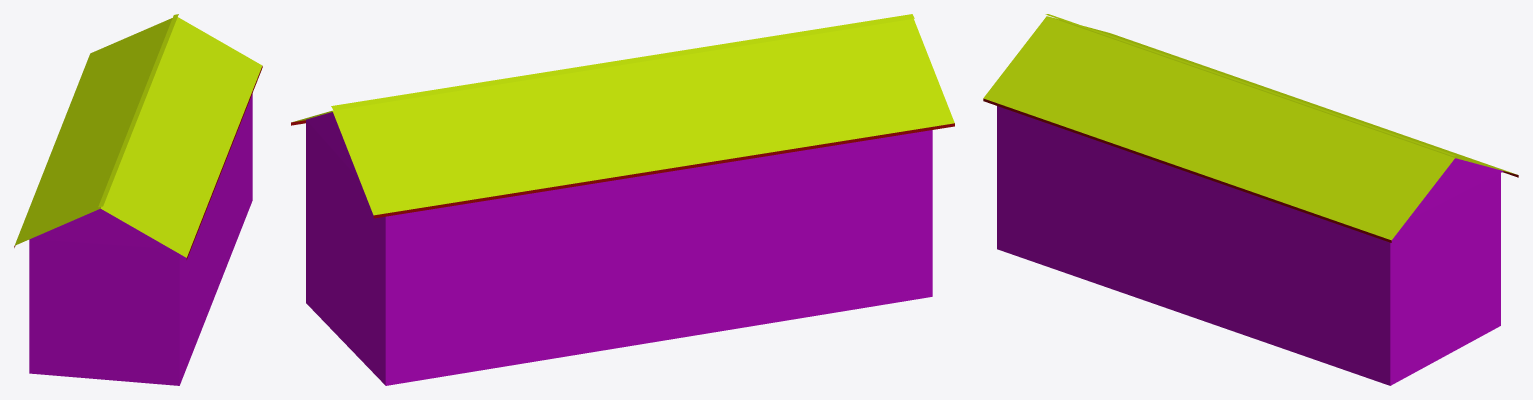
Rendered from vgn_14.glb.
The picture shows the model from 3 angles, left to right: view 1: azimuth 30°, elevation 25°; view 2: azimuth 150°, elevation 25°; view 3: azimuth 270°, elevation 25°; orthographic projection. The views are drawn at different scales.
Visible parts, largest first — view 1: vgn_14; view 2: vgn_14; view 3: vgn_14.
Part boxes in pixels (x1,y1,x2,y2): vgn_14: (14, 14, 262, 385); vgn_14: (291, 14, 954, 385); vgn_14: (983, 14, 1518, 385).
Size of the model in its own units: 19.86 by 9.1 by 21.68.
